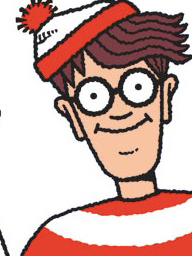waldo: (18, 1, 182, 180)
